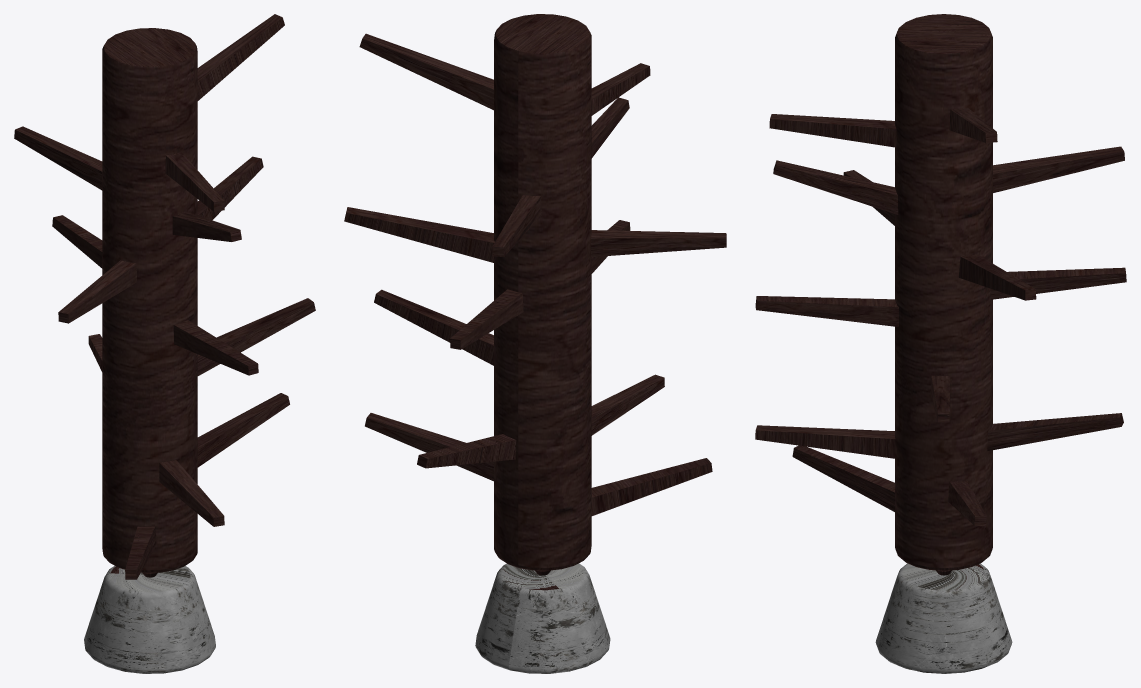
File: Dummy.fbx
The picture shows the model from 3 angles, left to right: view 1: azimuth 30°, elevation 25°; view 2: azimuth 150°, elevation 25°; view 3: azimuth 270°, elevation 25°; orthographic projection. The views are drawn at different scales.
Visible parts, largest first — view 1: Dummy; view 2: Dummy; view 3: Dummy.
Boxes of the visible parts, box(x1,y1,x2,y2) form: Dummy: box(14, 14, 315, 673); Dummy: box(344, 14, 726, 673); Dummy: box(755, 14, 1126, 673).
Size of the model in its own units: 95.35 by 183 by 101.
